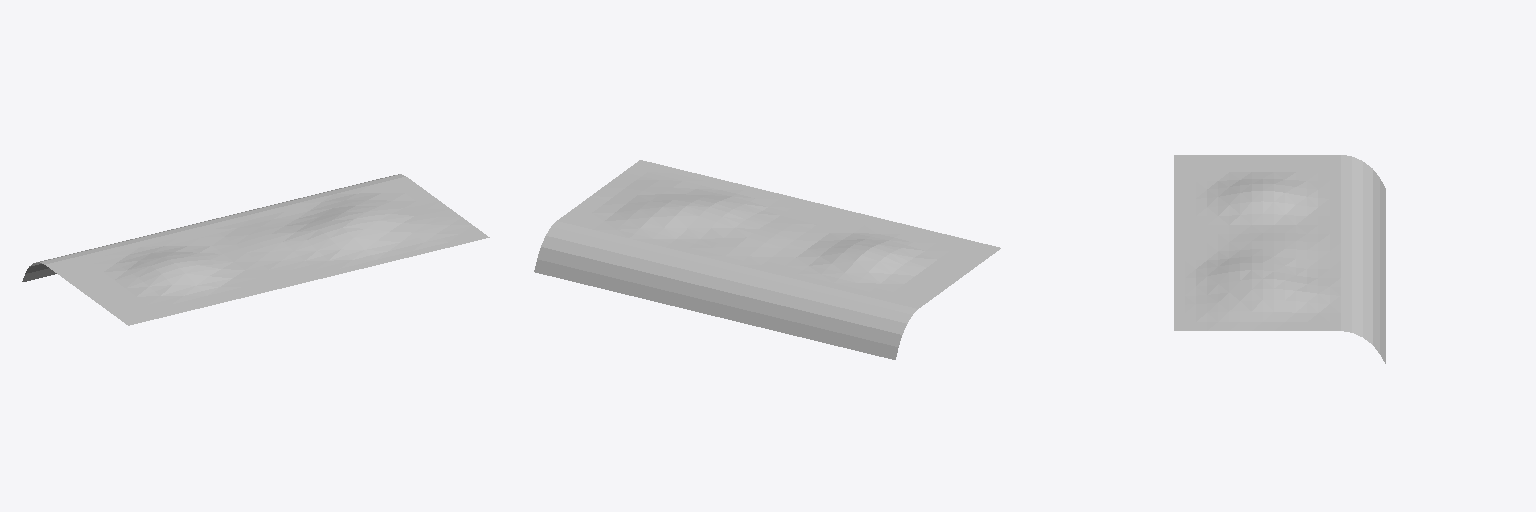
Rendered from groundBack2.obj.
3 renders of one model, left to right at view 1: azimuth 30°, elevation 25°; view 2: azimuth 150°, elevation 25°; view 3: azimuth 270°, elevation 25°, orthographic.
Visible parts, largest first — view 1: pPlane1; view 2: pPlane1; view 3: pPlane1.
Part boxes in pixels (x1,y1,x2,y2): pPlane1: (22,174,489,325); pPlane1: (534,160,1000,359); pPlane1: (1174,155,1385,363).
Bounding box in the file's own units: 15 × 1.7 × 7.64.